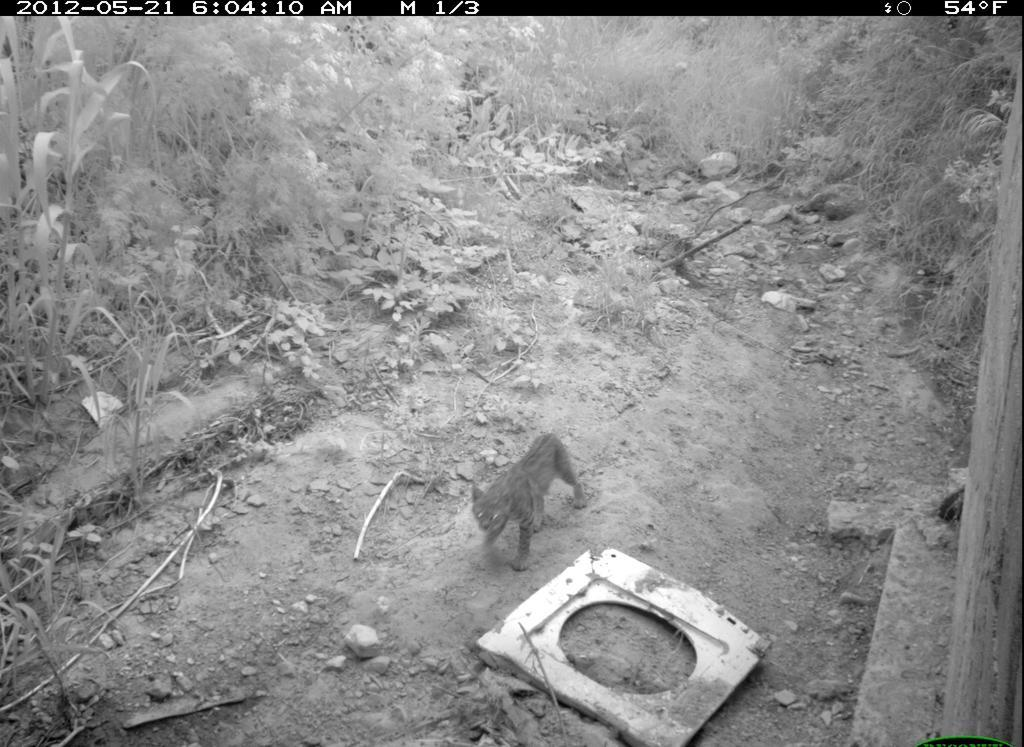bobcat: (464, 420, 591, 589)
